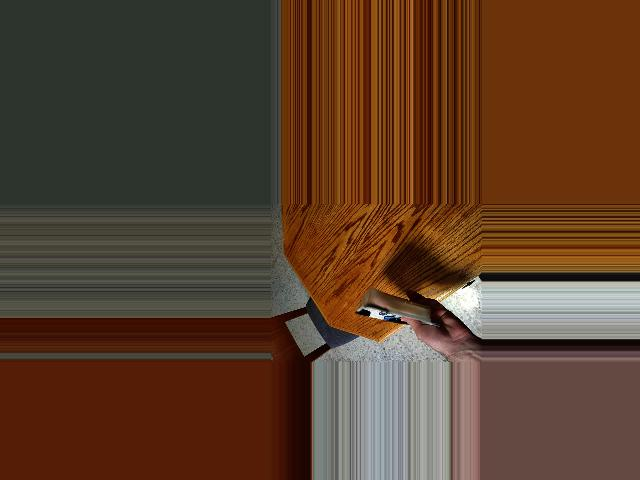cheese: (359, 280, 432, 343)
